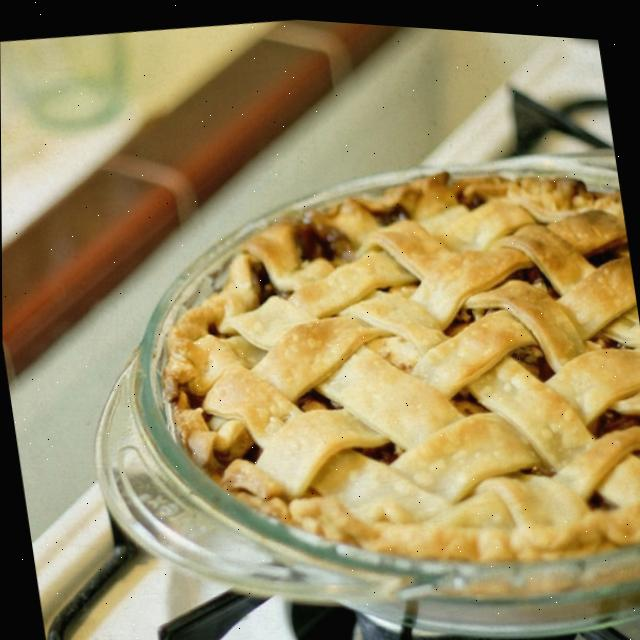炸货点心: (62, 56, 640, 640)
蛋糕甜品: (62, 56, 640, 640)
